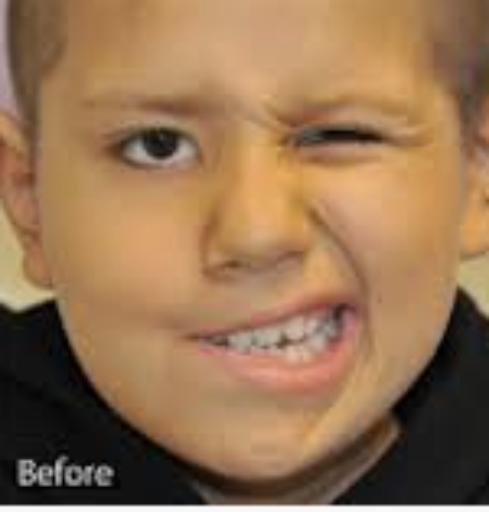left_eye: (287, 124, 399, 155)
left_lip_corner: (333, 294, 366, 323)
right_eye: (97, 125, 202, 169)
right_lip_corner: (176, 323, 217, 353)
